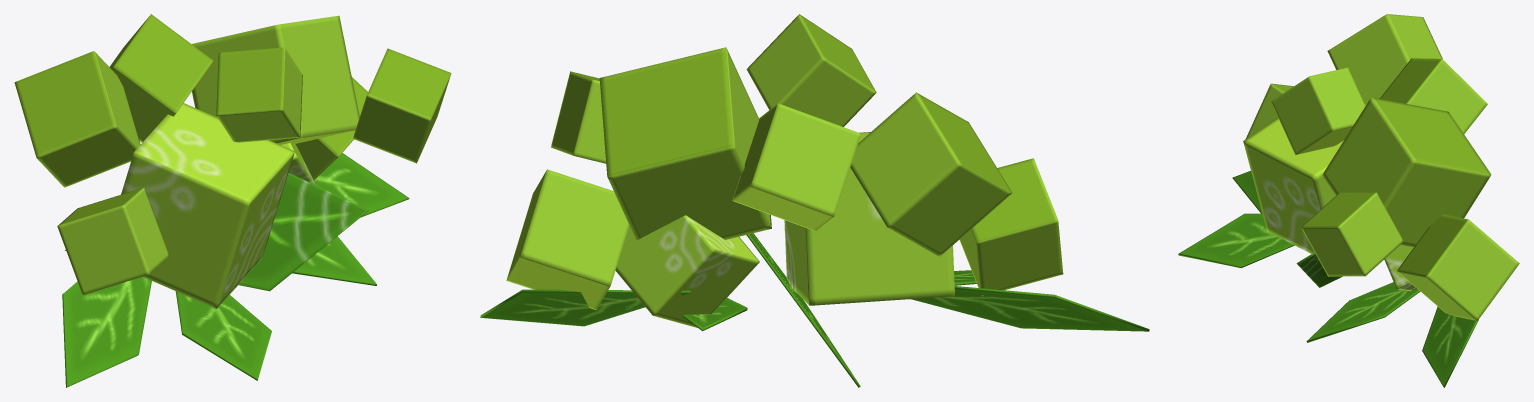
Rendered from kusa_1.fbx.
The picture shows the model from 3 angles, left to right: view 1: azimuth 30°, elevation 25°; view 2: azimuth 150°, elevation 25°; view 3: azimuth 270°, elevation 25°; orthographic projection. The views are drawn at different scales.
Parts seen in each view (by area): view 1: kusa; view 2: kusa; view 3: kusa.
Boxes of the visible parts, box(x1,y1,x2,y2) form: kusa: box(14, 14, 451, 387); kusa: box(480, 14, 1149, 387); kusa: box(1178, 14, 1519, 387).
Bounding box in the file's own units: 13.29 × 7.13 × 9.69.
